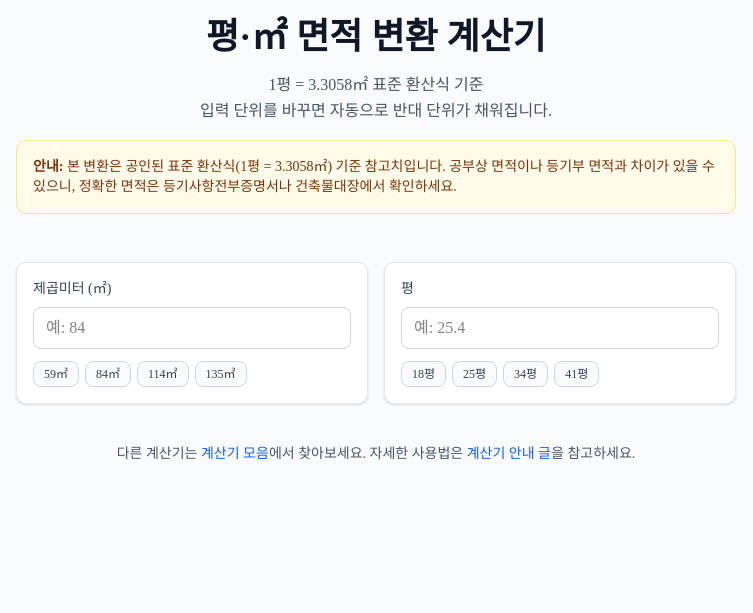
/tools/area-converter 페이지 › 초기화 버튼 — 두 필드 모두 빈 값으로 복귀
In the number field named "제곱미터 입력": coordinates (192, 328) left=33, top=307, right=351, bottom=349, type "84"
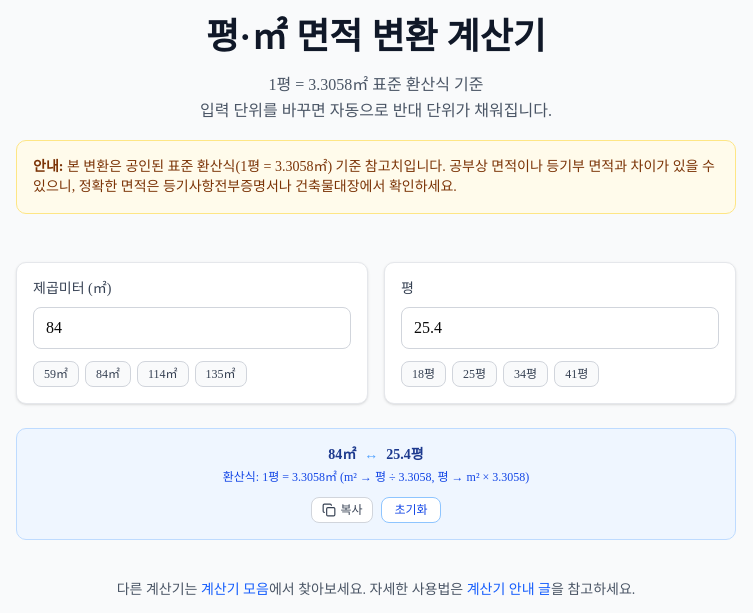
Click the button "초기화": coordinates (411, 510) left=382, top=497, right=441, bottom=523
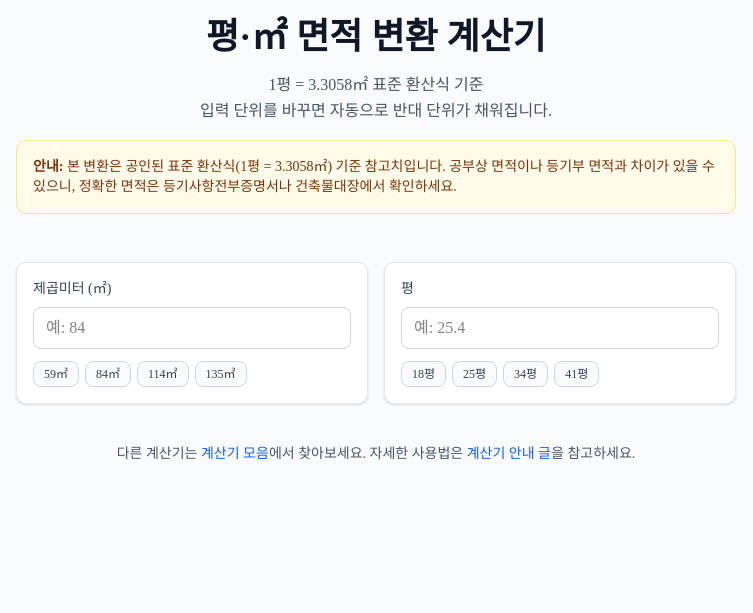
Expected: the number field named "제곱미터 입력" is empty, left=33, top=307, right=351, bottom=349
Expected: the number field named "평 입력" is empty, left=401, top=307, right=719, bottom=349
